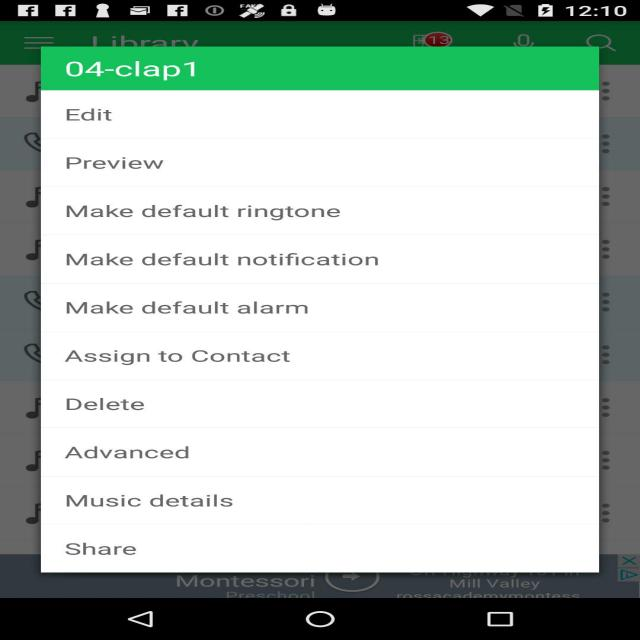text: (45, 240, 417, 284), (42, 295, 344, 328), (47, 197, 370, 227), (50, 344, 342, 373), (49, 51, 242, 80), (52, 438, 220, 470), (43, 147, 192, 178), (75, 489, 270, 512), (47, 535, 162, 568), (49, 101, 153, 134), (62, 397, 186, 418)
